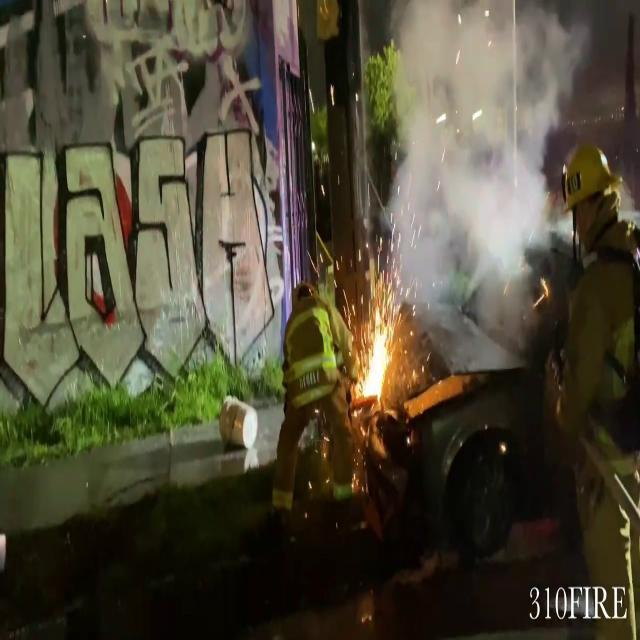Fire: (357, 297, 395, 413)
Smoke: (382, 0, 596, 344)
